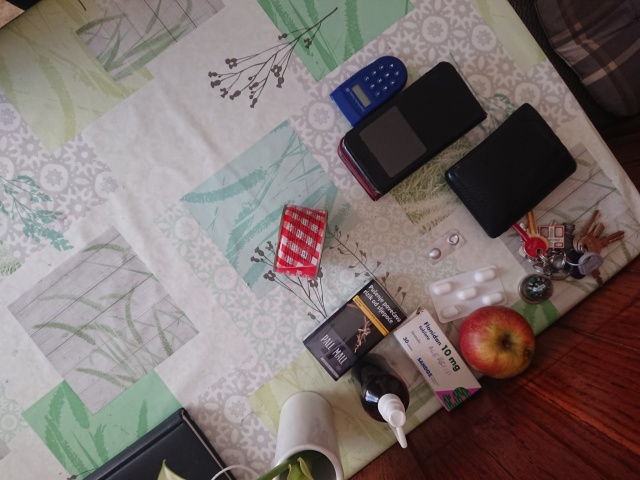Podravka Luncheon Meat 150g: (270, 202, 330, 283)
